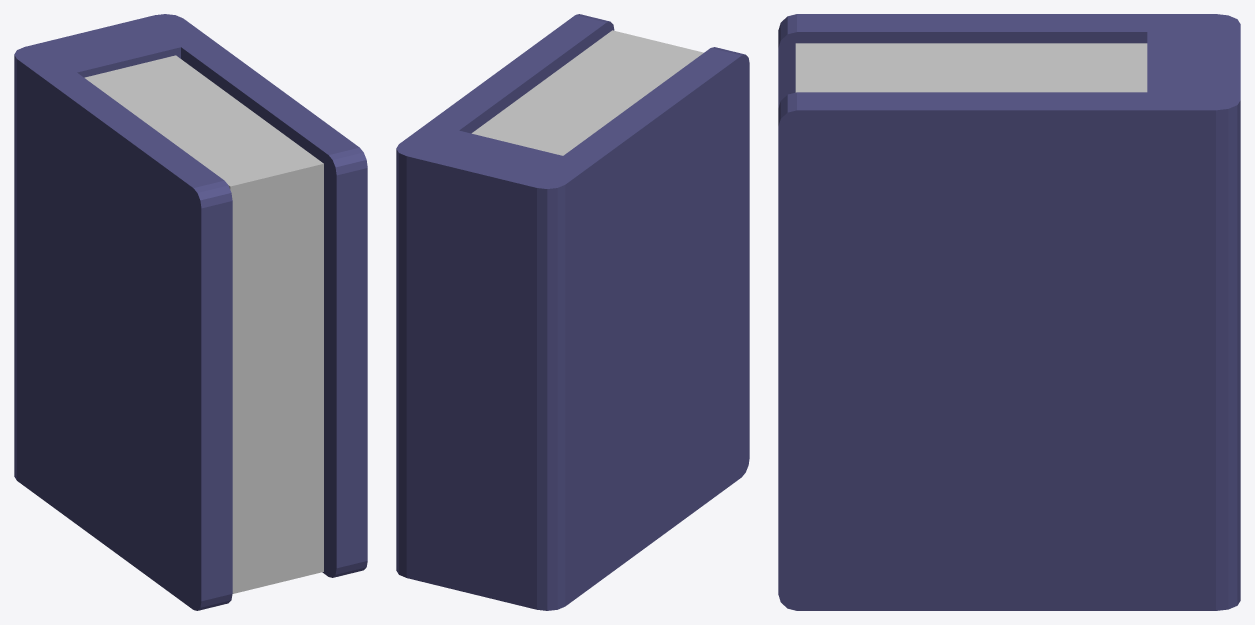
Rendered from kirja4_GJ22.fbx.
The picture shows the model from 3 angles, left to right: view 1: azimuth 30°, elevation 25°; view 2: azimuth 150°, elevation 25°; view 3: azimuth 270°, elevation 25°; orthographic projection. The views are drawn at different scales.
Visible parts, largest first — view 1: kirja; view 2: kirja; view 3: kirja.
Boxes of the visible parts, left/top/right/bottom form: kirja: left=14, top=14, right=367, bottom=610; kirja: left=396, top=14, right=749, bottom=610; kirja: left=778, top=14, right=1240, bottom=610.
Bounding box in the file's own units: 12.38 × 30 × 25.12.
